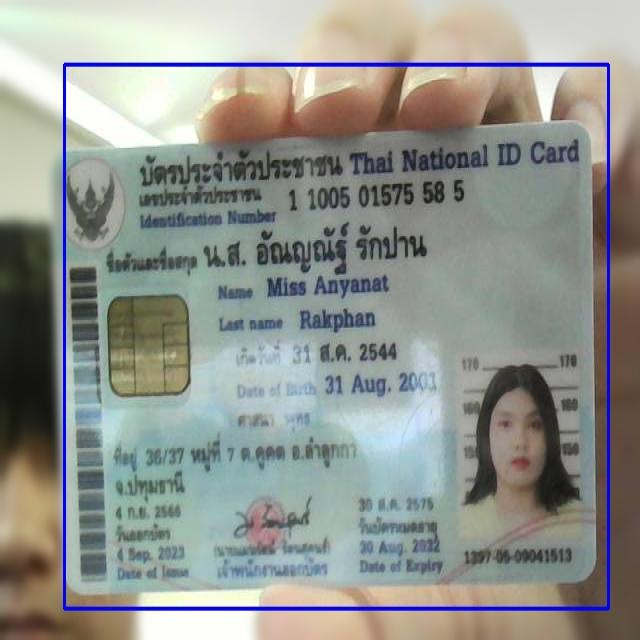Address_th: (109, 429, 362, 504)
Date_of_Birth: (322, 367, 440, 404)
Date_of_Expiry: (357, 534, 443, 559)
Date_of_Issue: (112, 542, 190, 565)
First_Name: (264, 271, 393, 302)
ID_Number: (283, 177, 471, 213)
Image: (457, 350, 582, 544)
Last_Name: (294, 304, 378, 335)
Thai_Name: (200, 217, 439, 276)
